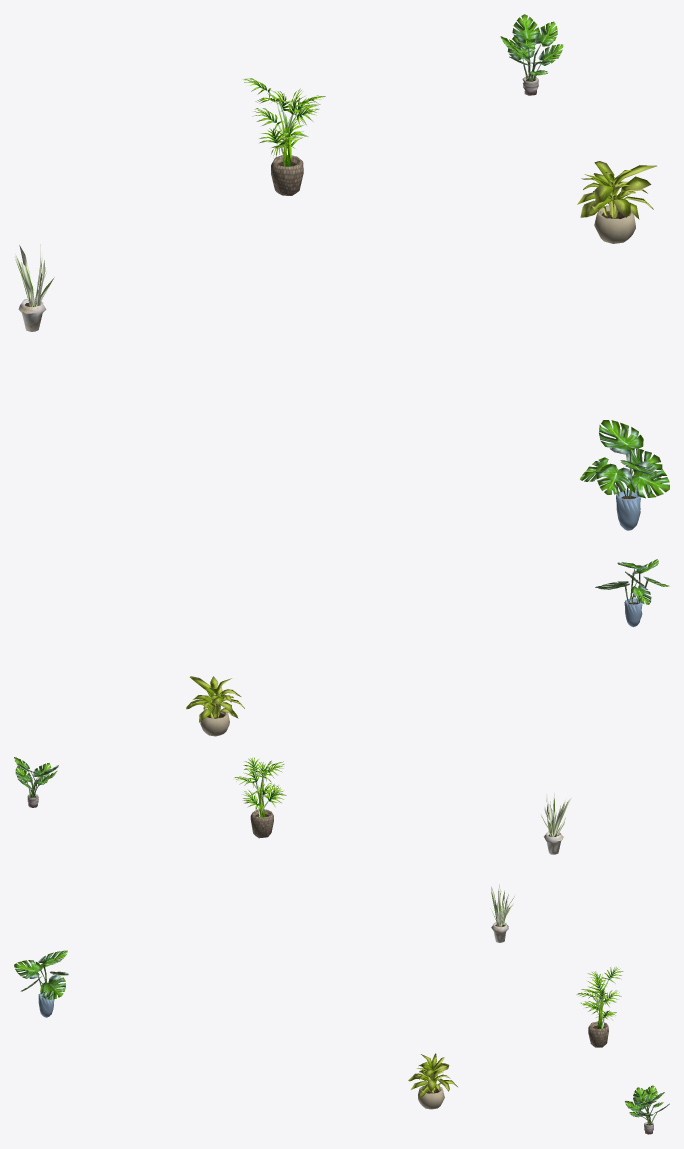
The model's file is mesh_livingroom_large_plants.glb.
The picture shows the model from 3 angles, top to bottom: view 1: azimuth 30°, elevation 25°; view 2: azimuth 150°, elevation 25°; view 3: azimuth 270°, elevation 25°; orthographic projection. The views are drawn at different scales.
Parts seen in each view (by area): view 1: Large_Plant_1; view 2: Large_Plant_1; view 3: Large_Plant_1.
Boxes of the visible parts, left/top/right/bottom form: Large_Plant_1: left=15, top=14, right=669, bottom=530; Large_Plant_1: left=14, top=559, right=669, bottom=854; Large_Plant_1: left=14, top=884, right=669, bottom=1134.
Size of the model in its own units: 9.2 by 1.47 by 12.35.
Materials: 1 (1 with a texture image).
